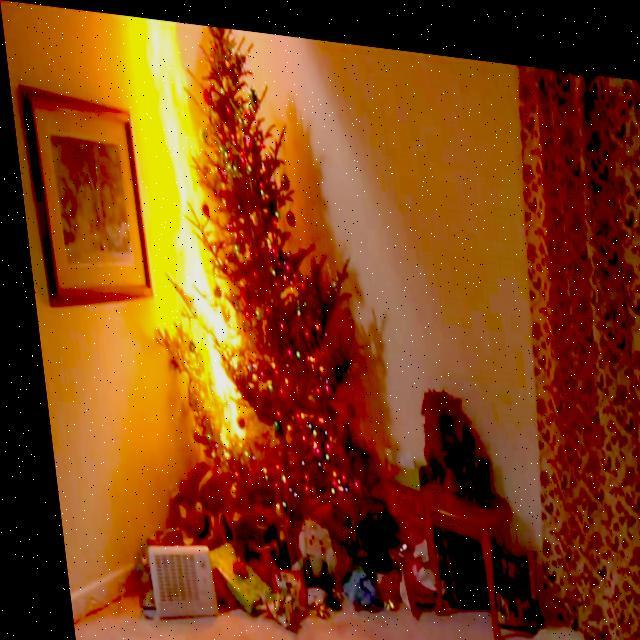Fire: (142, 14, 243, 448)
